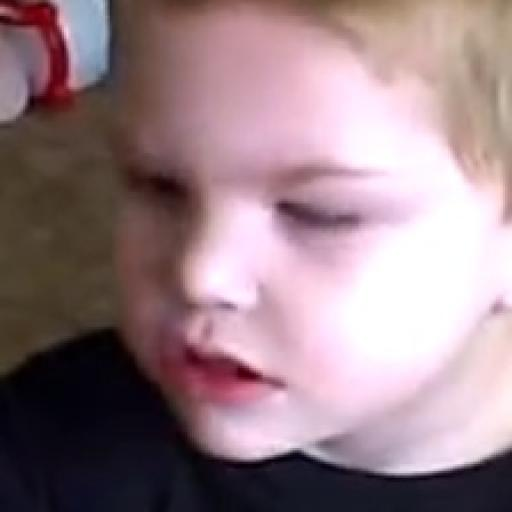Autism: (77, 0, 467, 512)
